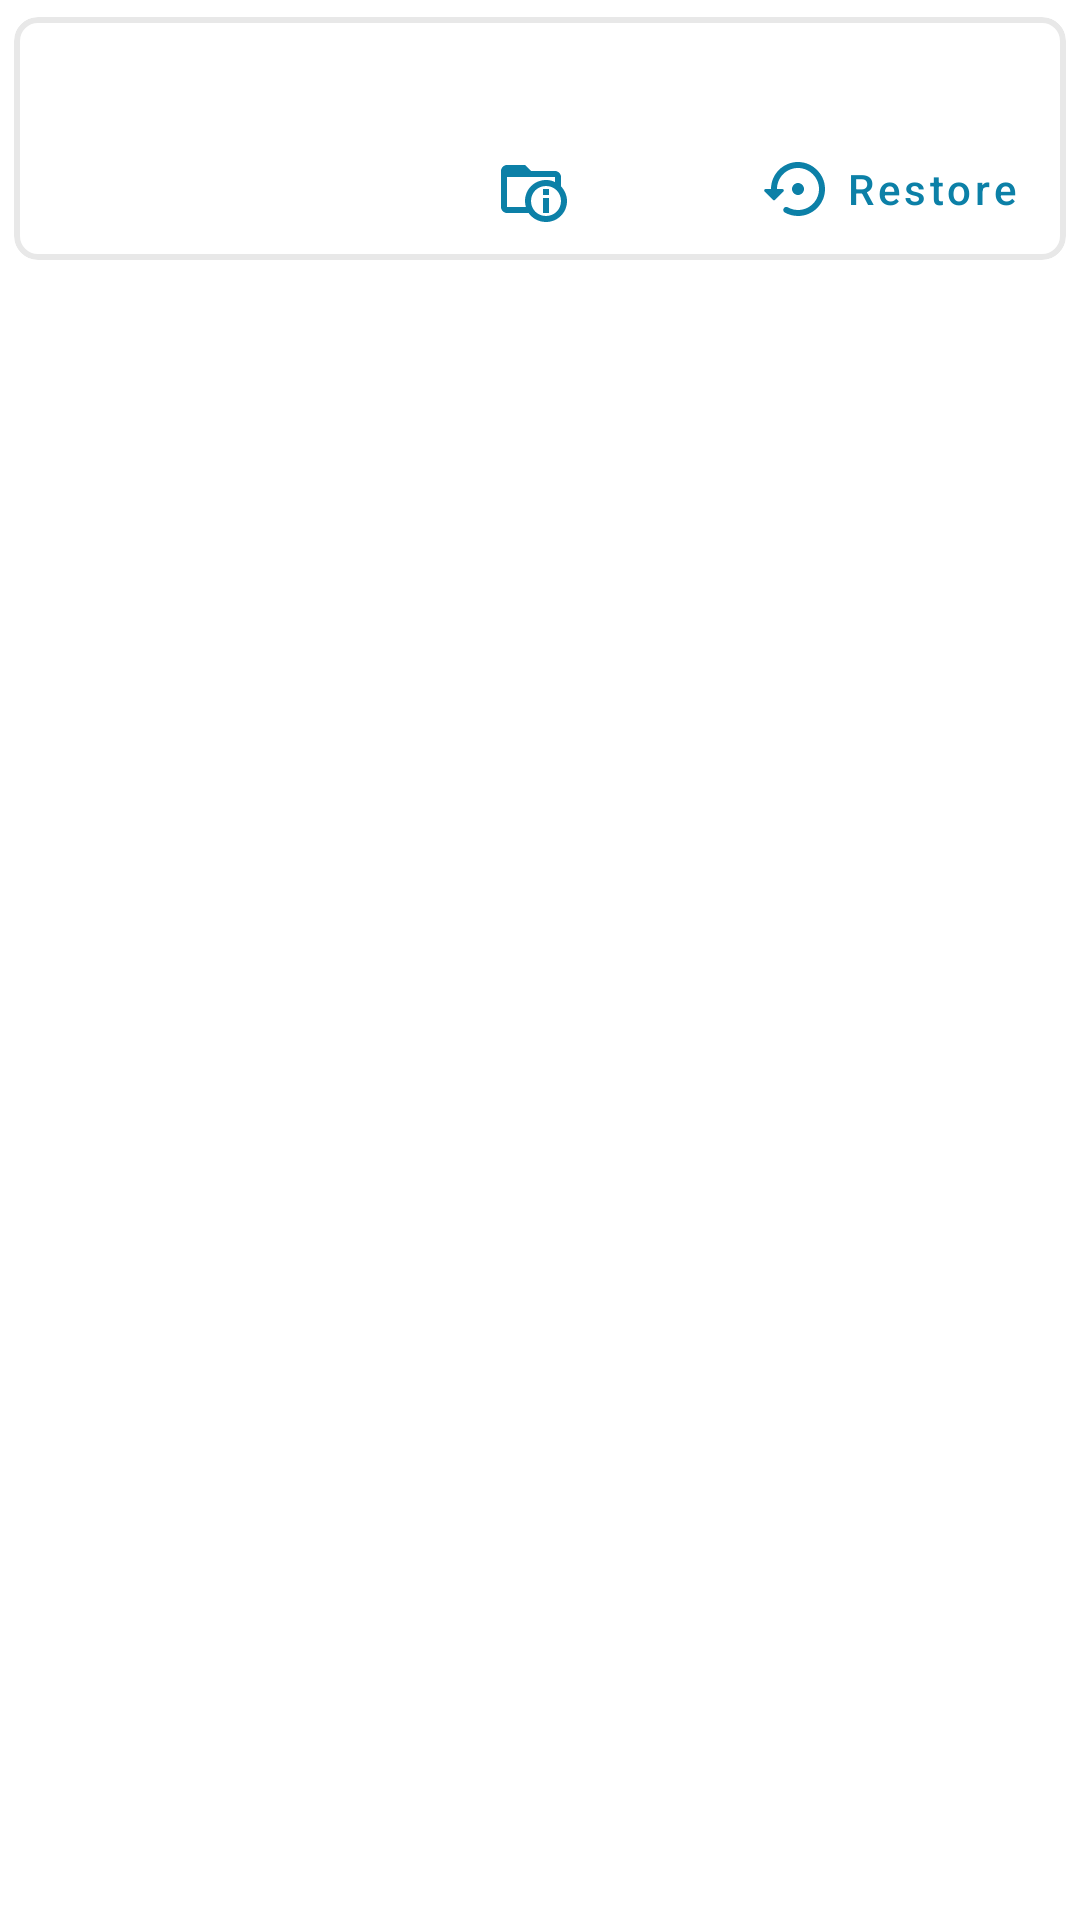

Screen size 1080 × 1920. Icon name, then its box in pixels as (x1, y1, x2, y2):
backup contents: (501, 165, 567, 222)
